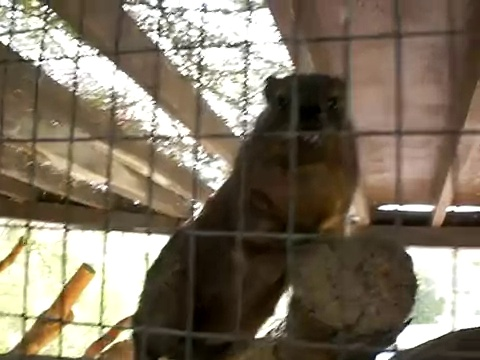Rock Hyrex: (134, 73, 364, 359)
